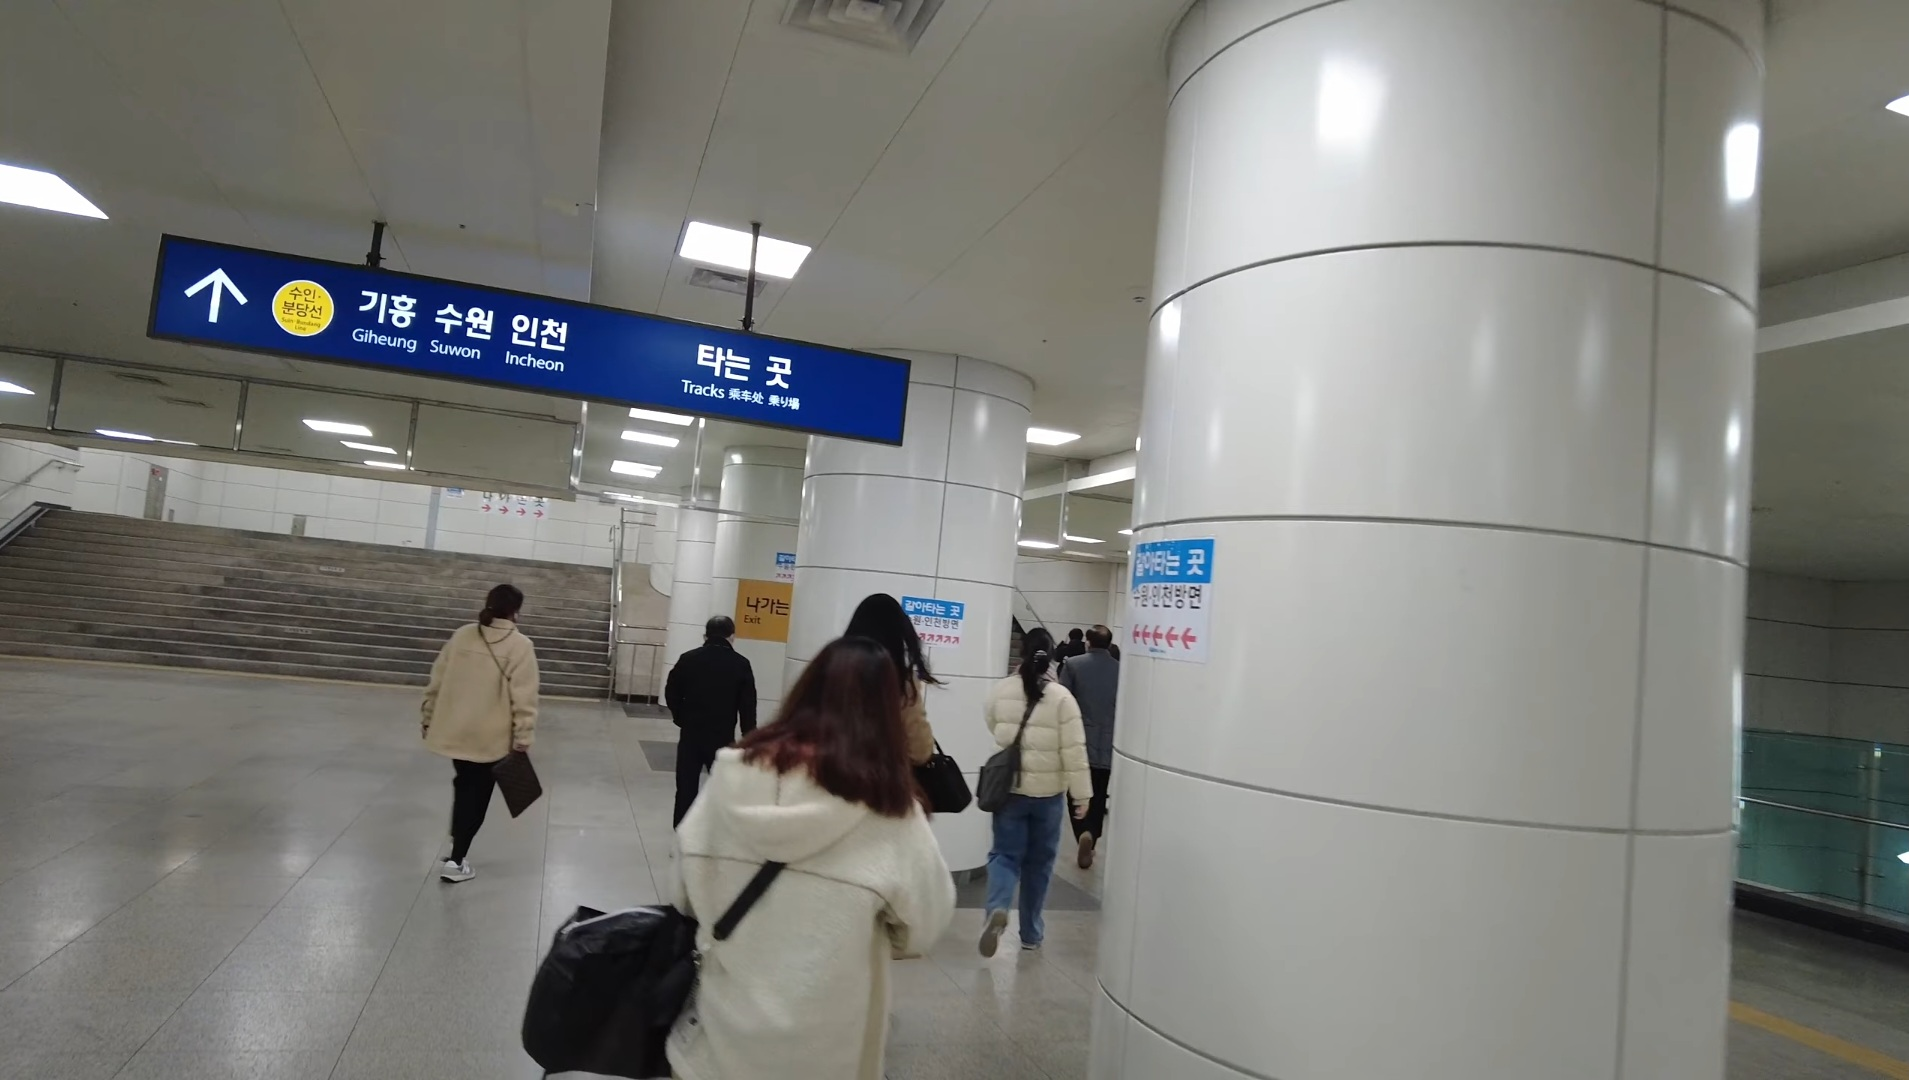signBoard: (132, 223, 920, 448)
